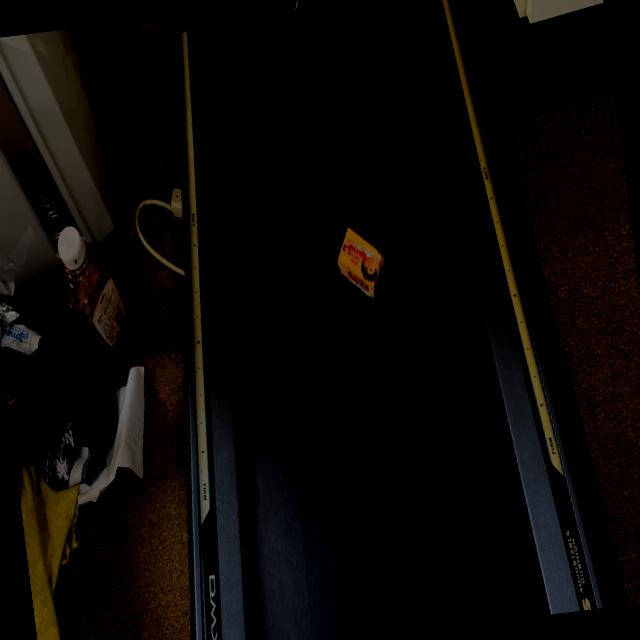Trash: (332, 222, 388, 302)
